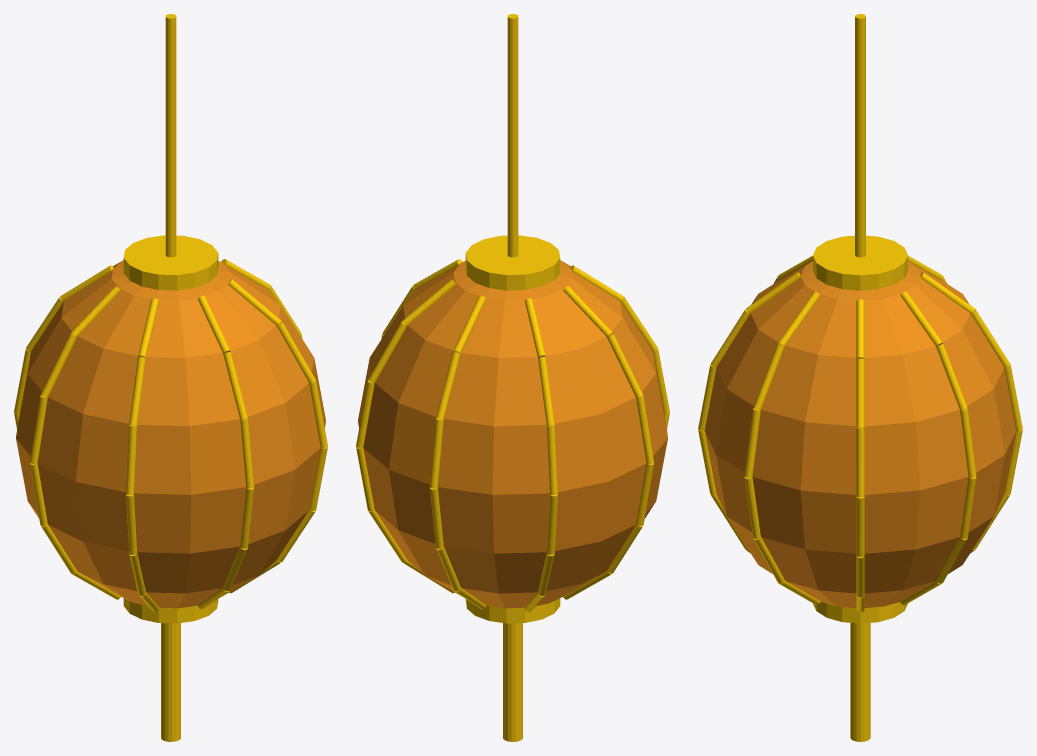
File: chinese-lantern.glb
3 renders of one model, left to right at view 1: azimuth 30°, elevation 25°; view 2: azimuth 150°, elevation 25°; view 3: azimuth 270°, elevation 25°, orthographic.
Parts seen in each view (by area): view 1: Lantern_1_Body, Lantern_1_Cap.001, Hanger.001, Tassel.001, Lantern_1_Cap, Lantern_1_Rib.038, Lantern_1_Rib.032, Lantern_1_Rib.037, Lantern_1_Rib.031, Lantern_1_Rib.025, Lantern_1_Rib.026, Lantern_1_Rib.044 (+6 smaller); view 2: Lantern_1_Body, Lantern_1_Cap.001, Hanger.001, Tassel.001, Lantern_1_Cap, Lantern_1_Rib.014, Lantern_1_Rib.020, Lantern_1_Rib.013, Lantern_1_Rib.019, Lantern_1_Rib.025, Lantern_1_Rib.026, Lantern_1_Rib.008 (+6 smaller); view 3: Lantern_1_Body, Lantern_1_Cap.001, Hanger.001, Tassel.001, Lantern_1_Cap, Lantern_1_Rib.002, Lantern_1_Rib.001, Lantern_1_Rib.008, Lantern_1_Rib.044, Lantern_1_Rib.007, Lantern_1_Rib.043, Lantern_1_Rib.003 (+3 smaller).
Boxes of the visible parts, x1,y1,x2,y2 form: Lantern_1_Body: (16,260,325,608); Lantern_1_Cap.001: (123,235,218,290); Hanger.001: (165,14,176,257); Tassel.001: (161,623,180,741); Lantern_1_Cap: (123,598,218,623); Lantern_1_Rib.038: (240,418,254,488); Lantern_1_Rib.032: (126,425,136,494); Lantern_1_Rib.037: (223,351,247,419); Lantern_1_Rib.031: (129,356,145,425); Lantern_1_Rib.025: (40,333,76,397); Lantern_1_Rib.026: (30,395,47,464); Lantern_1_Rib.044: (309,380,327,448); Lantern_1_Body: (358,260,667,608); Lantern_1_Cap.001: (465,235,560,290); Hanger.001: (507,14,518,257); Tassel.001: (503,623,522,741); Lantern_1_Cap: (465,598,560,623); Lantern_1_Rib.014: (429,418,443,488); Lantern_1_Rib.020: (547,425,557,494); Lantern_1_Rib.013: (436,351,460,419); Lantern_1_Rib.019: (538,356,554,425); Lantern_1_Rib.025: (607,333,643,397); Lantern_1_Rib.026: (636,395,653,464); Lantern_1_Rib.008: (356,380,374,448); Lantern_1_Body: (704,261,1016,607); Lantern_1_Cap.001: (813,235,907,290); Hanger.001: (855,14,865,257); Tassel.001: (850,623,870,741); Lantern_1_Cap: (813,602,907,623); Lantern_1_Rib.002: (856,427,864,497); Lantern_1_Rib.001: (856,358,864,427); Lantern_1_Rib.008: (960,408,976,477); Lantern_1_Rib.044: (744,408,760,477); Lantern_1_Rib.007: (936,343,967,410); Lantern_1_Rib.043: (753,343,784,410); Lantern_1_Rib.003: (856,496,864,557).
Size of the model in its own units: 0.4773 by 1.17 by 0.4773.
